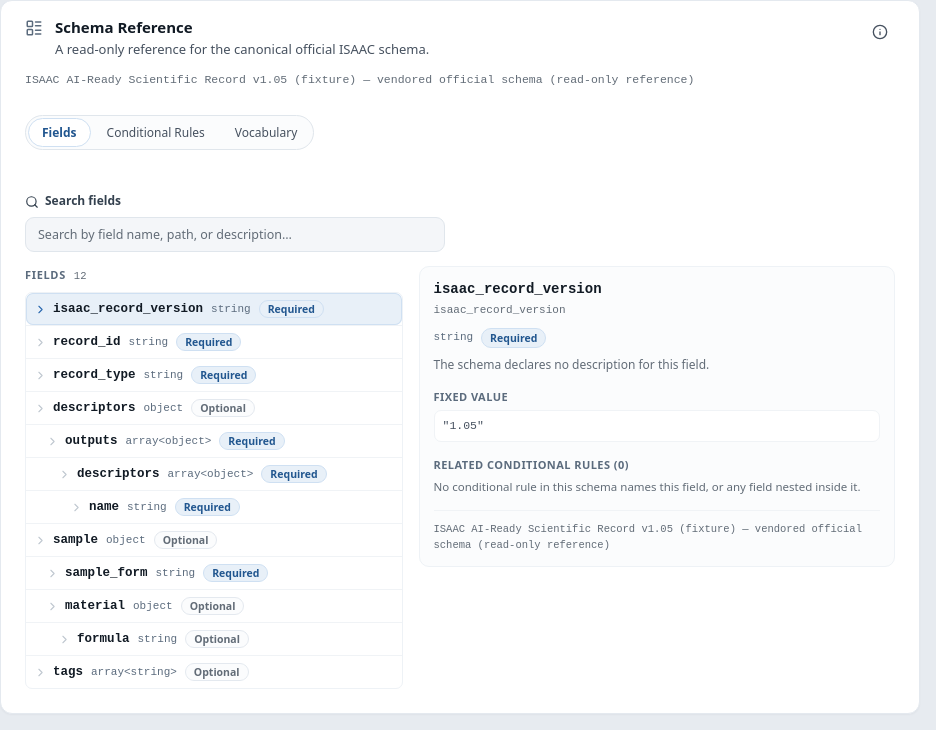
Test case: SchemaBrowser — Fields master list › does not expand every field at once — only the SELECTED field is described
The width and height of the screenshot is (936, 730).
Step 1. Click the button "record_id string Required" → (214, 342), box [26,326,402,358]
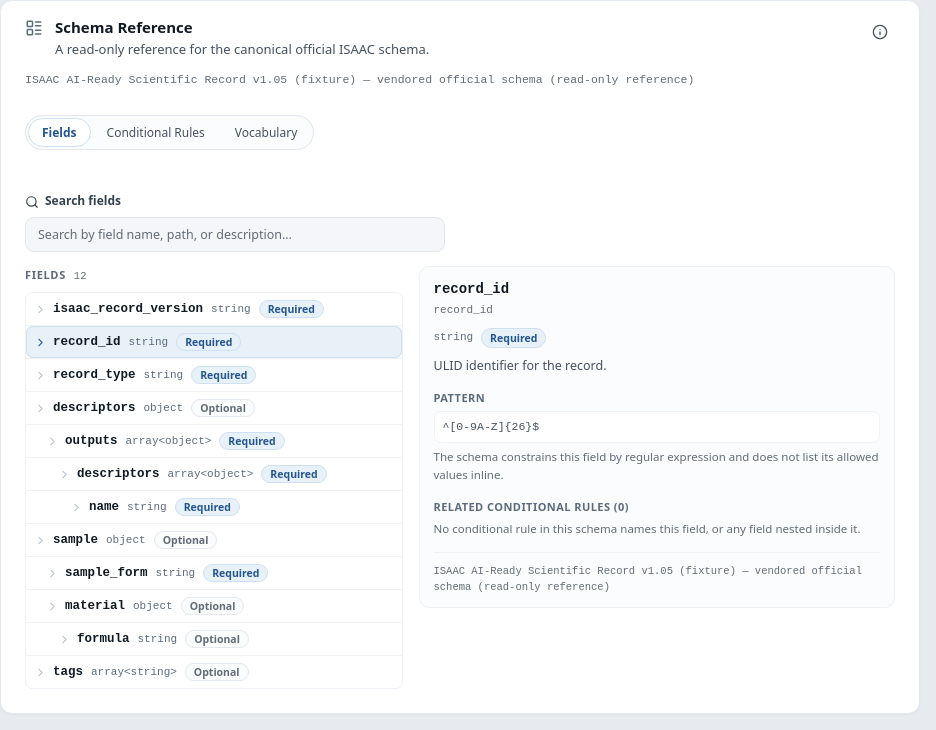
Expected: the text "ULID identifier for the record." is shown, [434,357,606,374]
